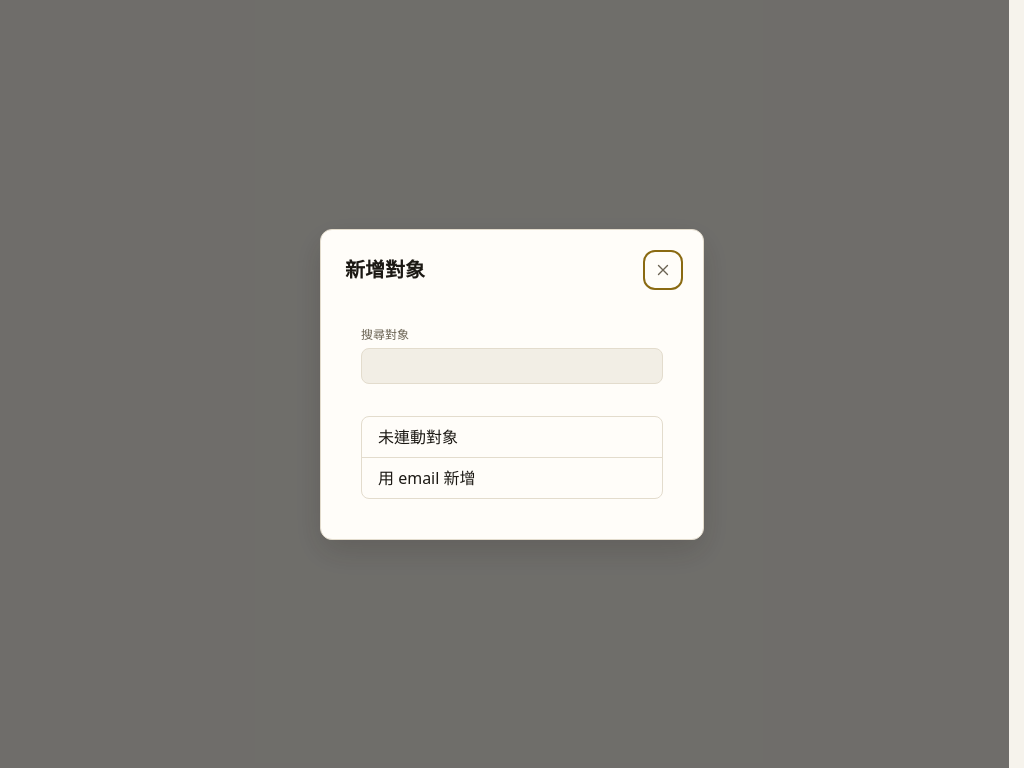
AddCounterpartyMemberDialog › adds an unlinked counterparty directly and displays the backend duplicate-name message
Click the button "未連動對象" at (418, 436), box [362, 416, 662, 456]
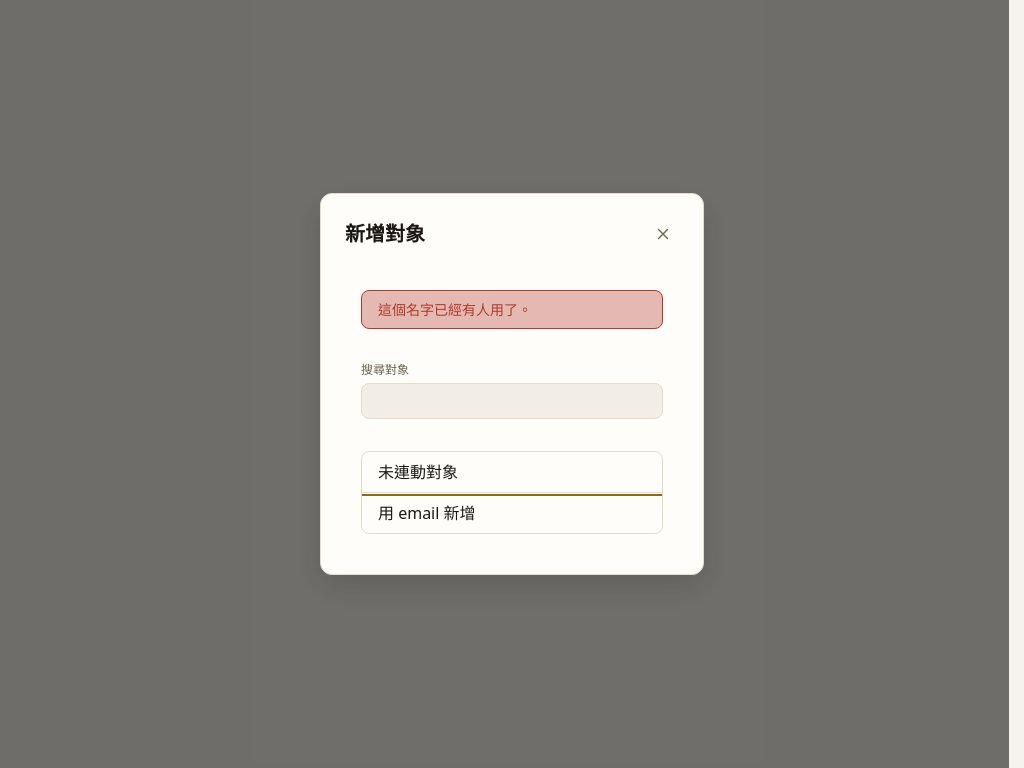
expect the message reads "這個名字已經有人用了。": met, box [378, 300, 532, 319]
